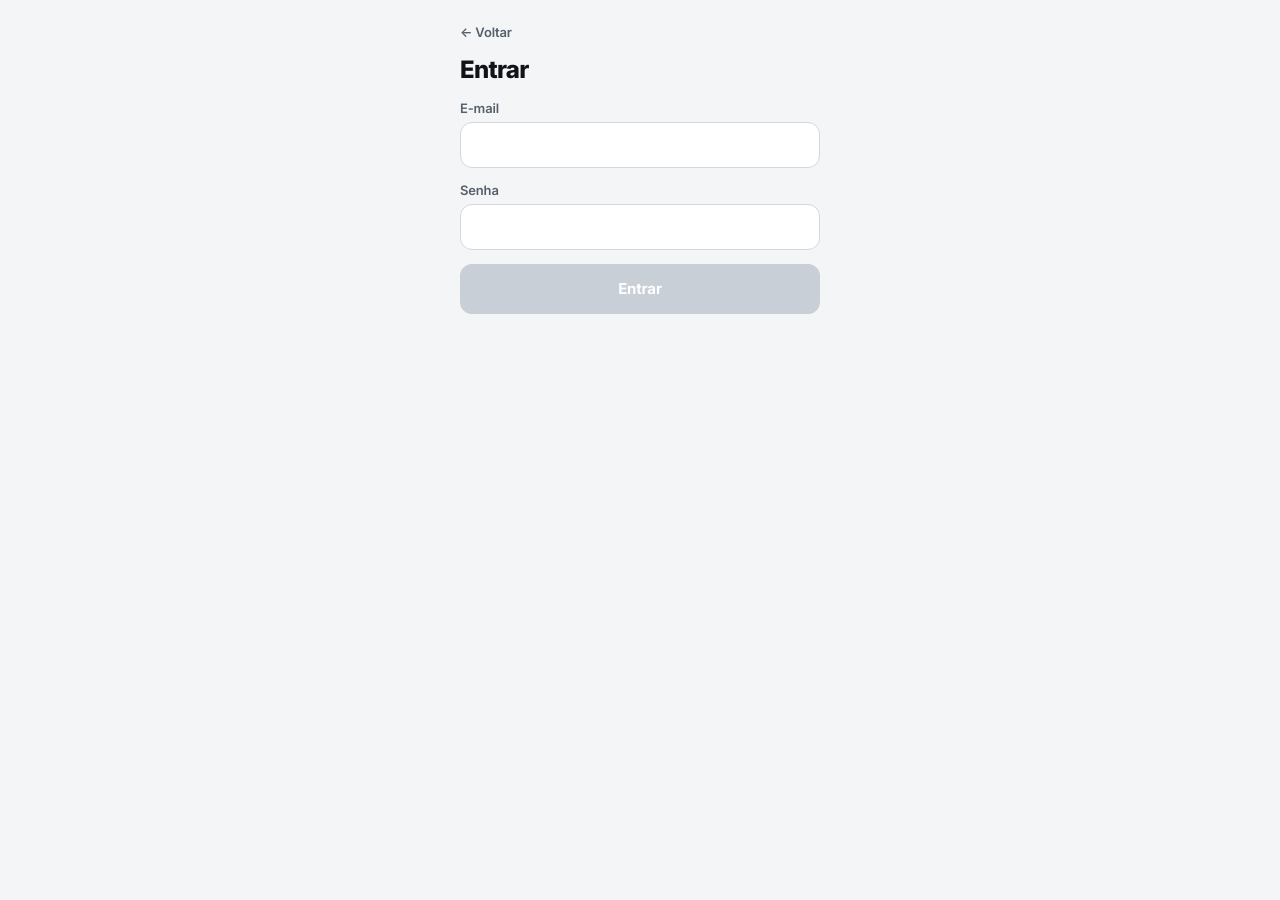
login por e-mail › entra e vai para a trilha
This screenshot has width=1280, height=900.
Type "aluno@example.com" into the field labelled "E-mail".
click(640, 145); type("aluno@example.com")  # box [460,122,820,168]
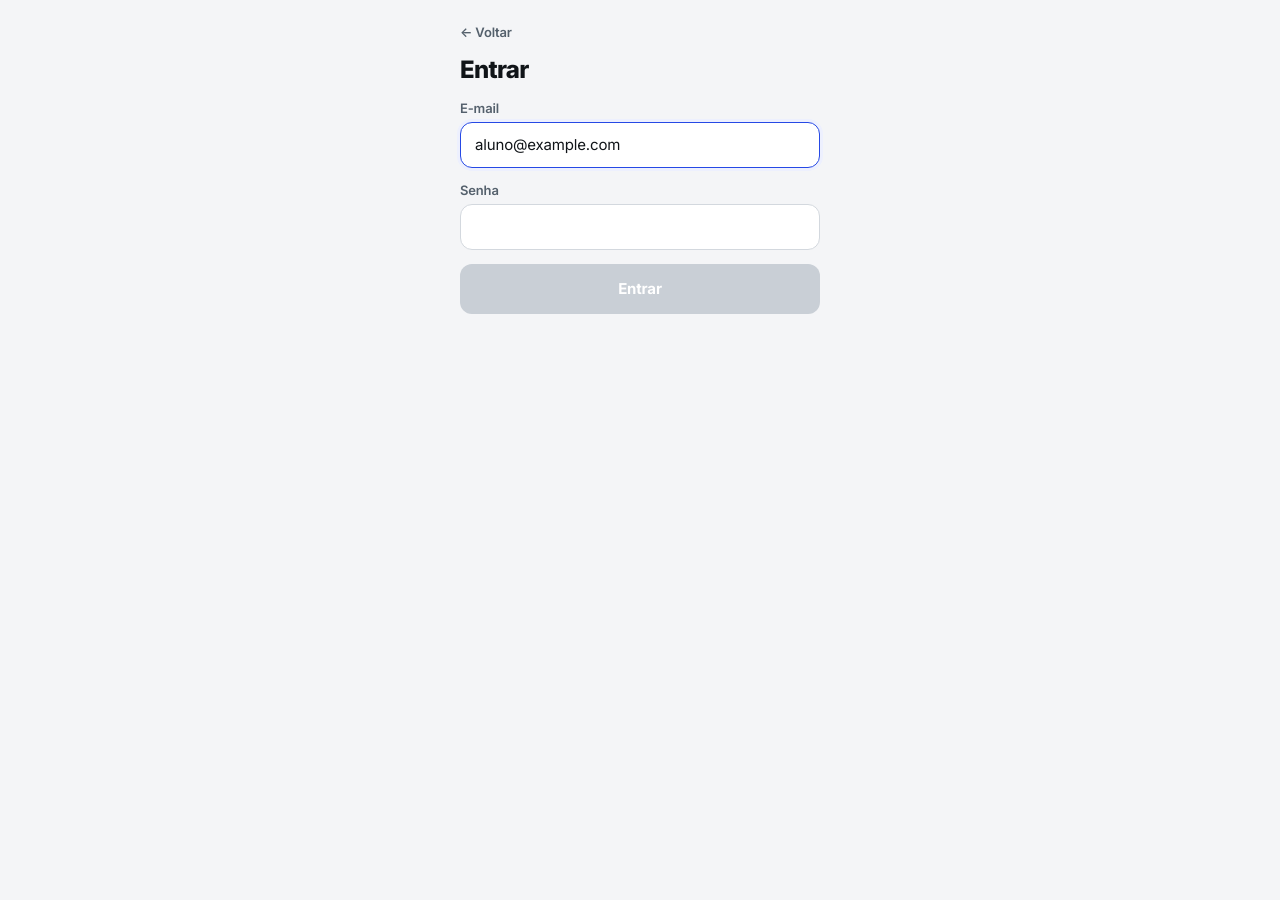
Type "correct-horse-9" into the password field labelled "Senha".
click(640, 227); type("correct-horse-9")  # box [460,204,820,250]
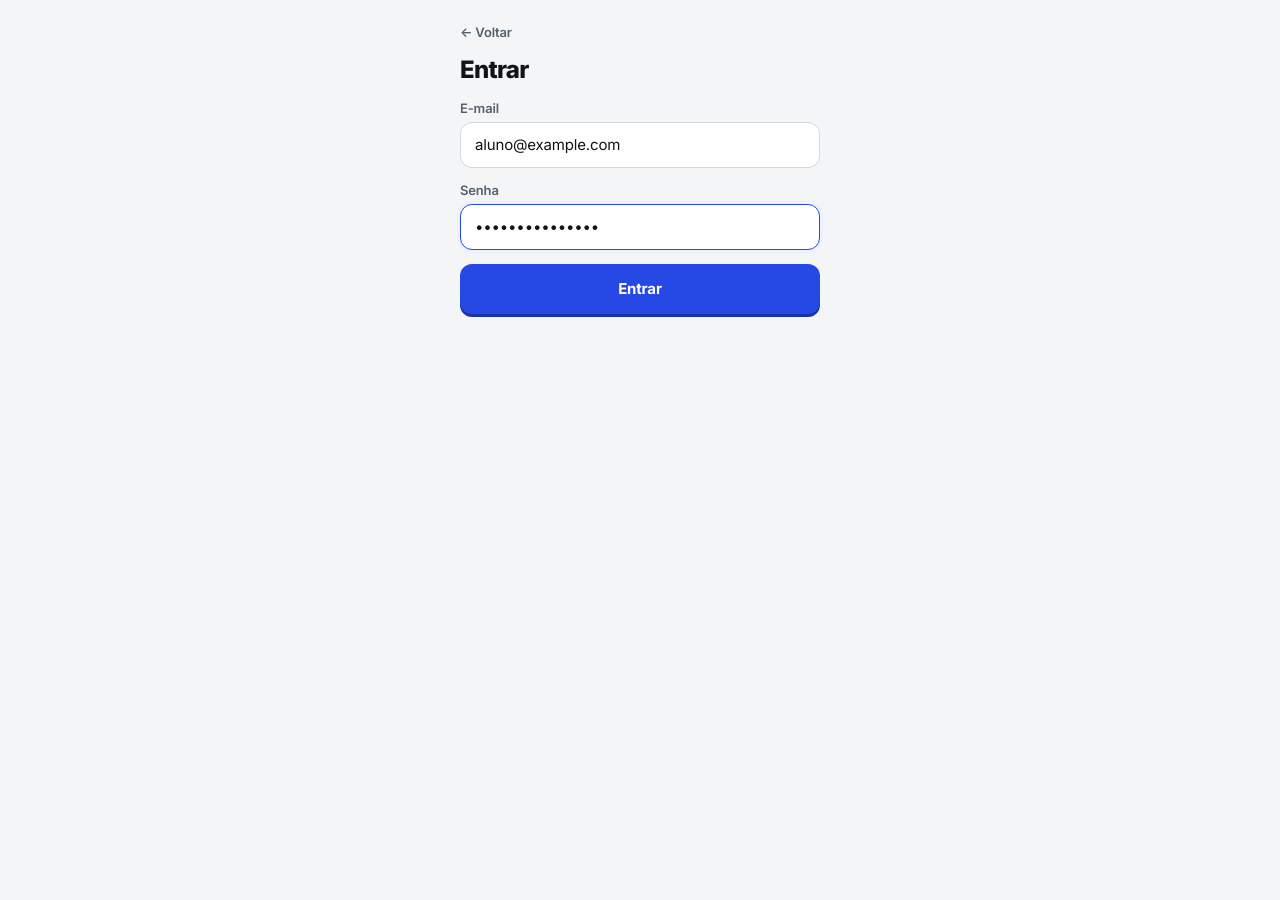
Click the button "Entrar".
click(640, 289)  # box [460,264,820,314]
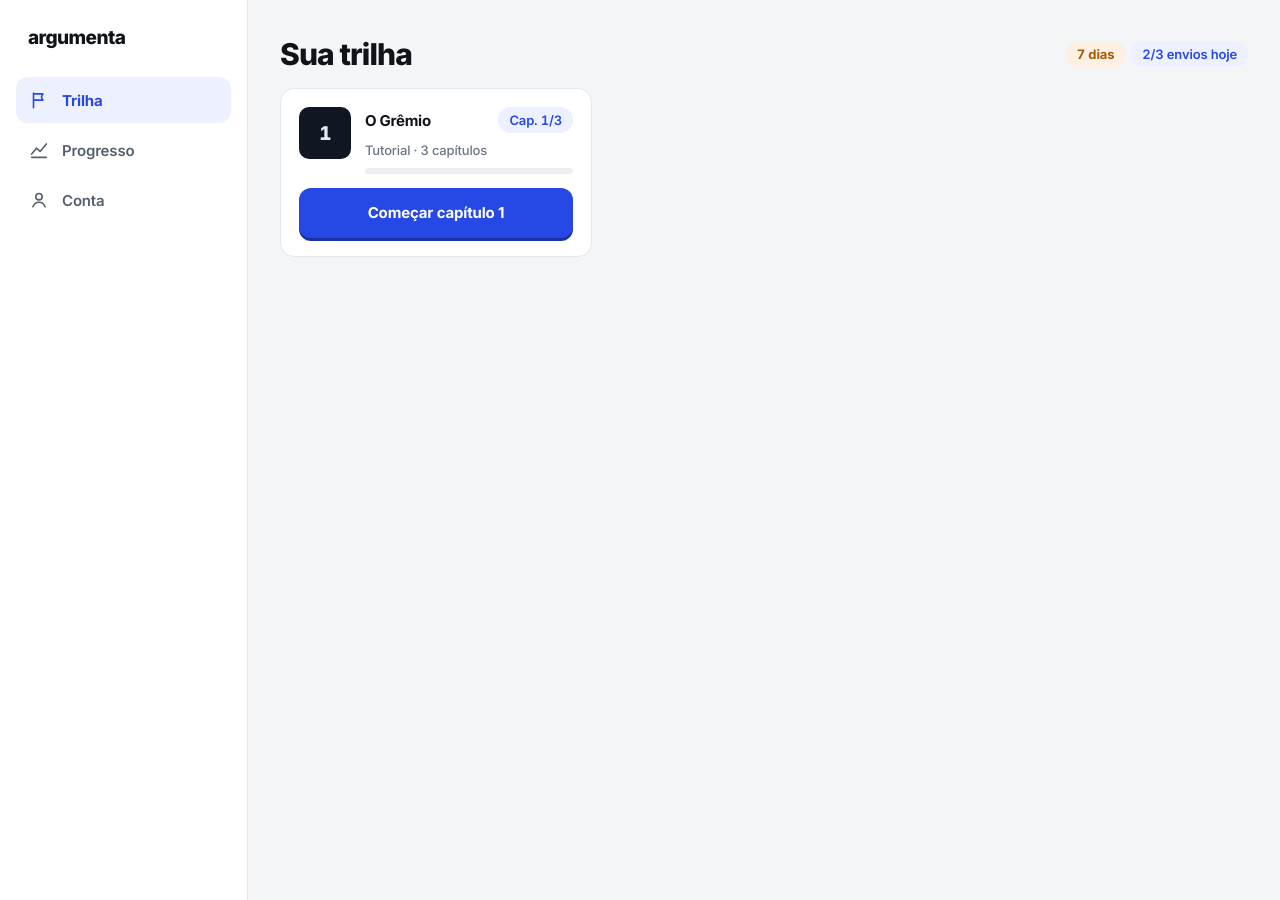
Now the heading "Sua trilha" is shown, box [280,36,412,72]
